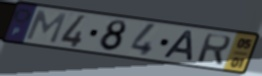4: (127, 21, 159, 59), (60, 14, 87, 49)
8: (96, 19, 127, 53)
A: (161, 29, 195, 63)
M: (24, 9, 69, 45)
R: (195, 32, 233, 67)
